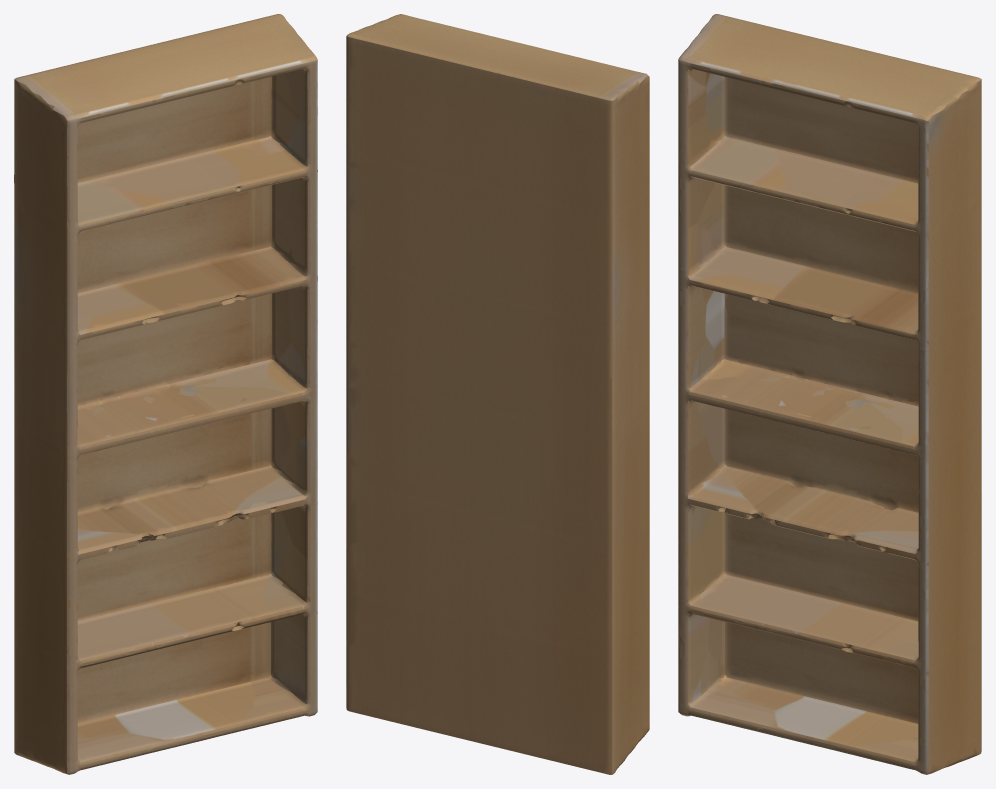
File: shelf__shelf#1.glb
The picture shows the model from 3 angles, left to right: view 1: azimuth 30°, elevation 25°; view 2: azimuth 150°, elevation 25°; view 3: azimuth 330°, elevation 25°; orthographic projection.
Visible parts, largest first — view 1: tmp8vs3kwph.ply; view 2: tmp8vs3kwph.ply; view 3: tmp8vs3kwph.ply.
Boxes of the visible parts, <box> form: tmp8vs3kwph.ply: <box>14,14,317,774</box>; tmp8vs3kwph.ply: <box>346,14,649,774</box>; tmp8vs3kwph.ply: <box>678,14,981,774</box>.
Bounding box in the file's own units: 0.8222 × 1.99 × 0.2485.
1 material, 1 textured.
